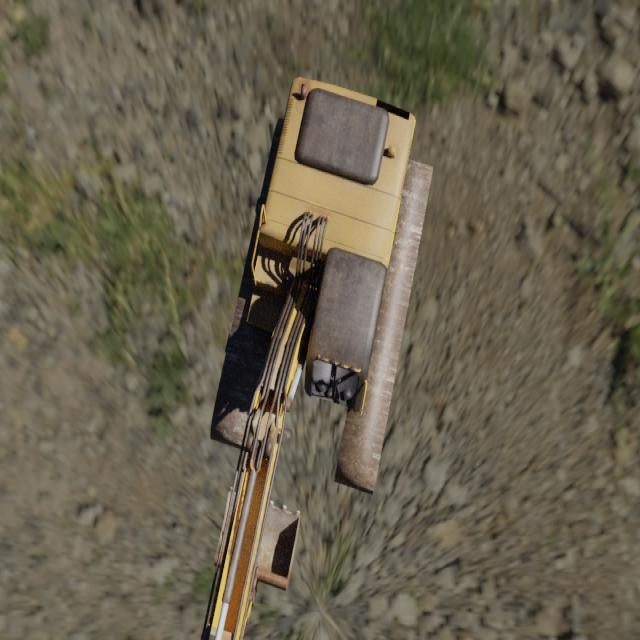excavator: (199, 76, 433, 640)
